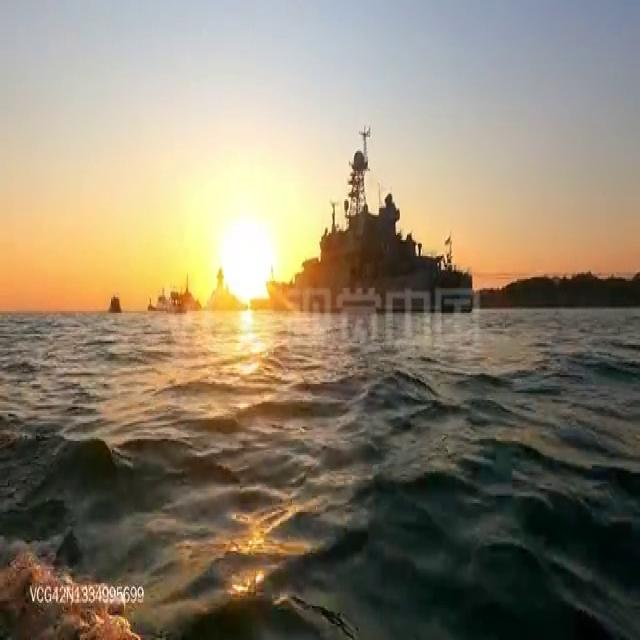fishing boat: (146, 282, 188, 317)
navalvessels: (266, 145, 475, 316), (201, 266, 251, 314), (107, 289, 125, 316)
